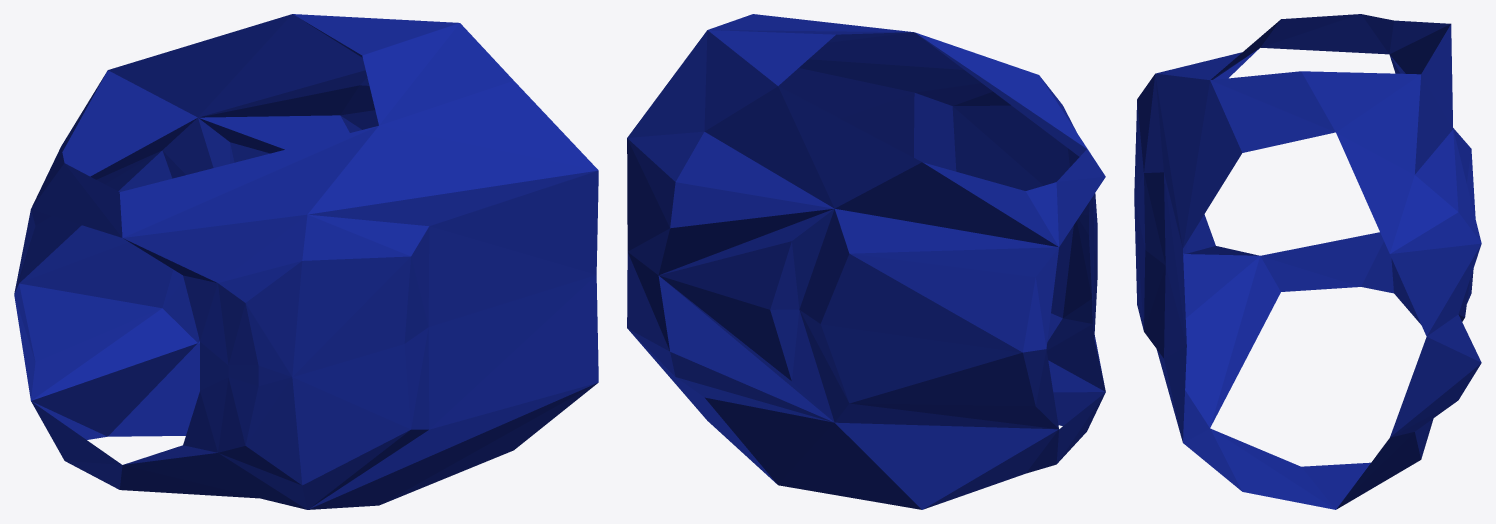
The model's file is TestChest.obj.
3 renders of one model, left to right at view 1: azimuth 30°, elevation 25°; view 2: azimuth 150°, elevation 25°; view 3: azimuth 270°, elevation 25°, orthographic. The views are drawn at different scales.
Visible parts, largest first — view 1: TestChestArmor_Cube.003; view 2: TestChestArmor_Cube.003; view 3: TestChestArmor_Cube.003.
Part boxes in pixels (bbox=[...]): TestChestArmor_Cube.003: bbox=[14, 14, 598, 509]; TestChestArmor_Cube.003: bbox=[627, 14, 1105, 509]; TestChestArmor_Cube.003: bbox=[1134, 14, 1481, 509].
Bounding box in the file's own units: 0.4465 × 0.4029 × 0.3209.
